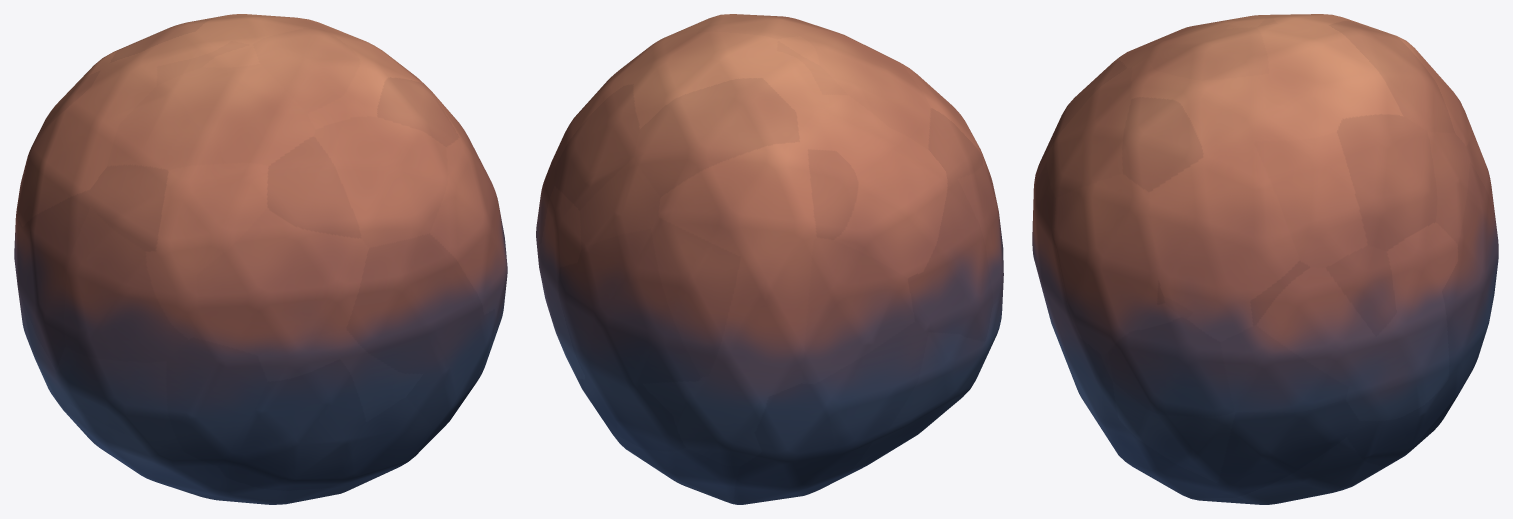
The model's file is round_rock.glb.
3 renders of one model, left to right at view 1: azimuth 30°, elevation 25°; view 2: azimuth 150°, elevation 25°; view 3: azimuth 270°, elevation 25°, orthographic. The views are drawn at different scales.
Parts seen in each view (by area): view 1: RoundRock; view 2: RoundRock; view 3: RoundRock.
Part boxes in pixels (bbox=[...]): RoundRock: bbox=[14, 14, 507, 504]; RoundRock: bbox=[536, 14, 1003, 504]; RoundRock: bbox=[1032, 14, 1498, 504].
Bounding box in the file's own units: 0.9405 × 0.8853 × 0.8745.
1 material, 1 textured.
